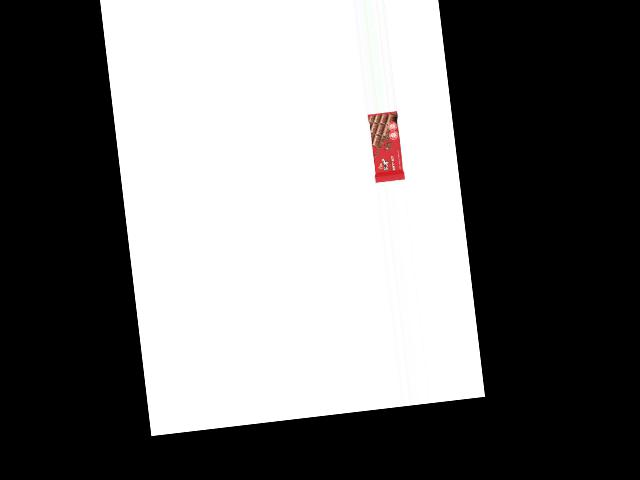chocolate: (367, 111, 405, 184)
